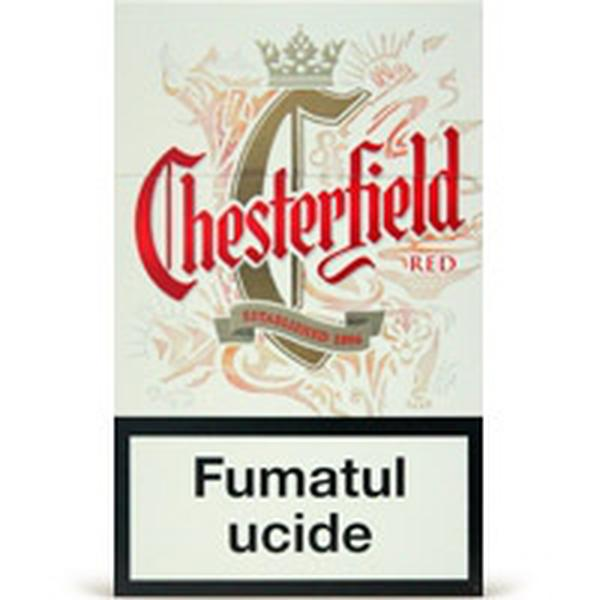chesterfield_red: (115, 2, 482, 596)
